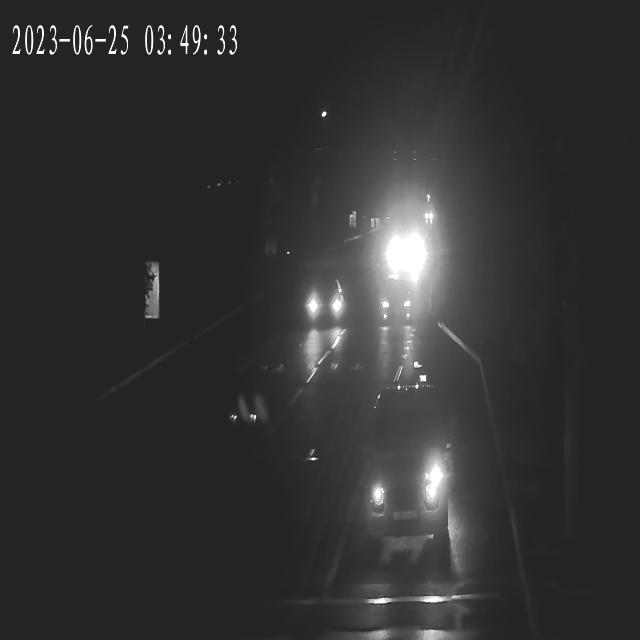Car: (360, 391, 459, 536), (359, 440, 452, 534), (290, 271, 344, 324), (378, 226, 424, 272), (383, 232, 428, 276), (376, 284, 416, 322)
